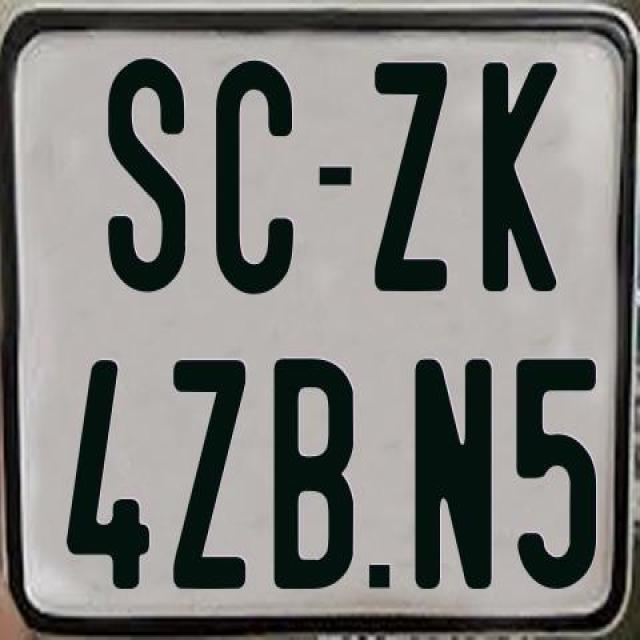4: (65, 361, 155, 594)
5: (516, 357, 604, 587)
B: (272, 357, 360, 597)
C: (216, 59, 295, 299)
K: (478, 59, 556, 288)
N: (415, 355, 493, 595)
S: (108, 53, 186, 294)
Z: (172, 360, 248, 590), (374, 63, 446, 300)
